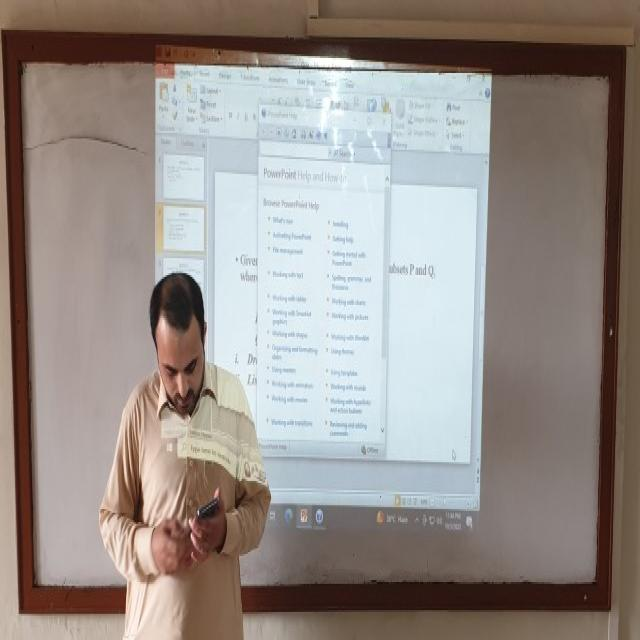Instructor: (110, 277, 248, 638)
Slide: (152, 39, 496, 548)
White-board: (14, 42, 618, 600)
